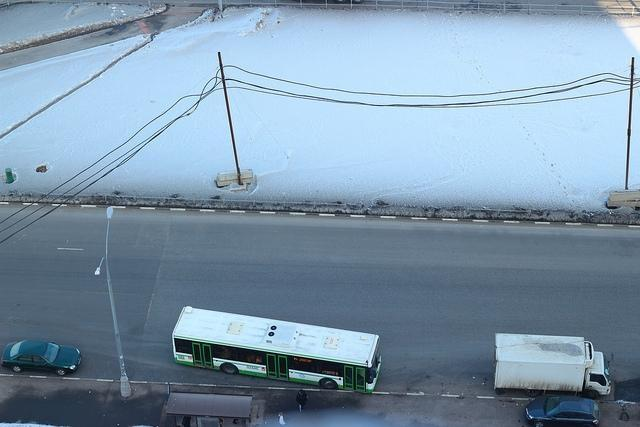bus: (172, 306, 383, 392)
car: (2, 340, 82, 377), (522, 392, 600, 426)
truck: (492, 333, 620, 399)
